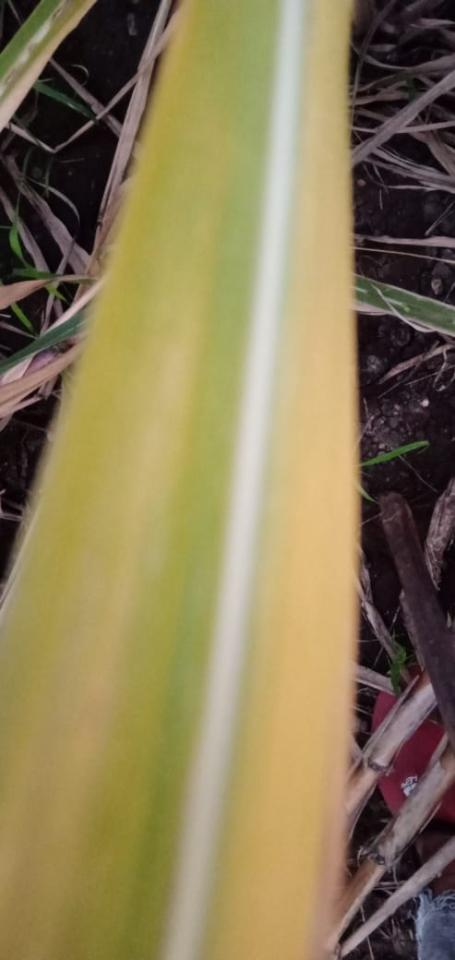Yellow: (0, 234, 210, 959), (204, 0, 357, 959)
